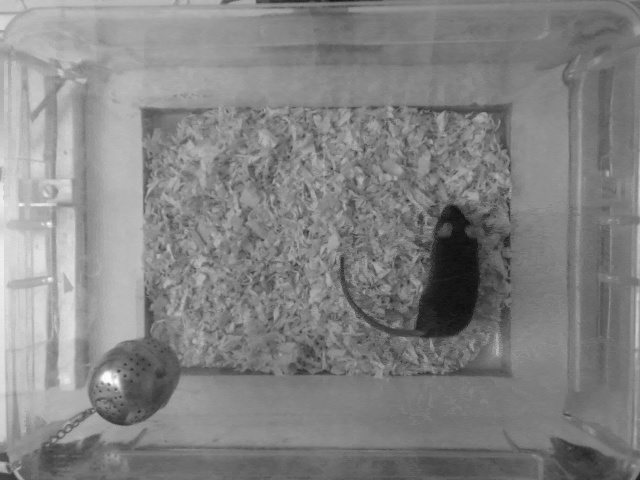mice: (335, 198, 483, 341)
